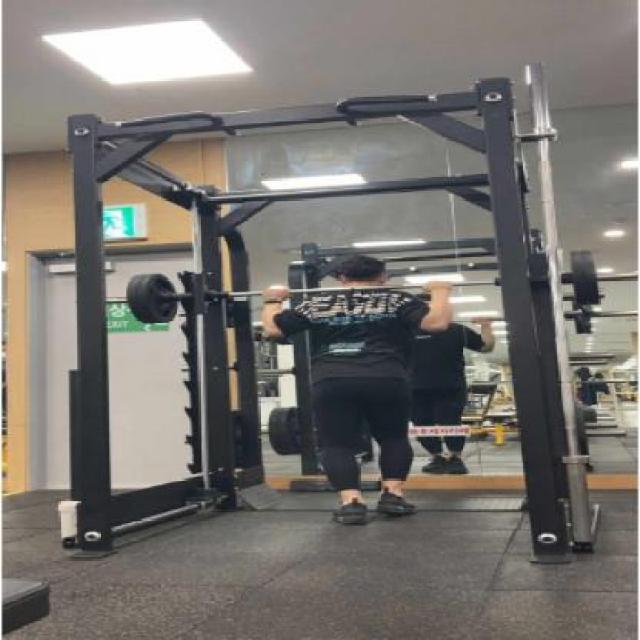smith machine: (66, 77, 605, 566)
